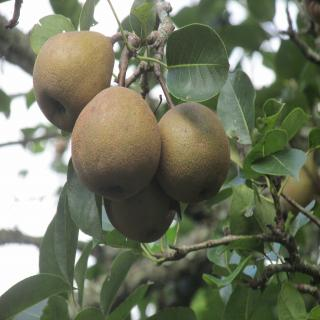Pear: (71, 85, 162, 203), (32, 32, 117, 136), (156, 103, 230, 204), (104, 178, 175, 243), (275, 155, 320, 221)
